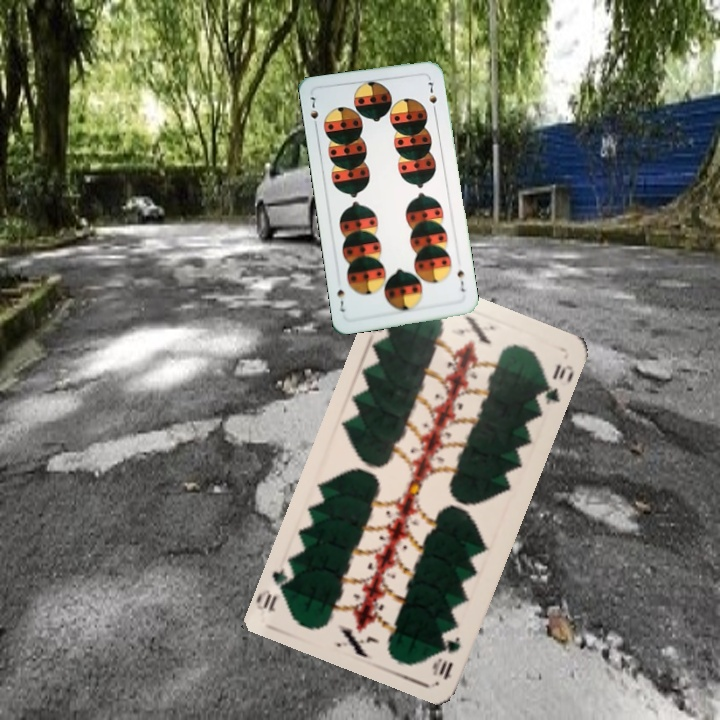G10: (428, 632, 463, 683)
S7: (306, 93, 321, 132), (453, 266, 467, 294)
